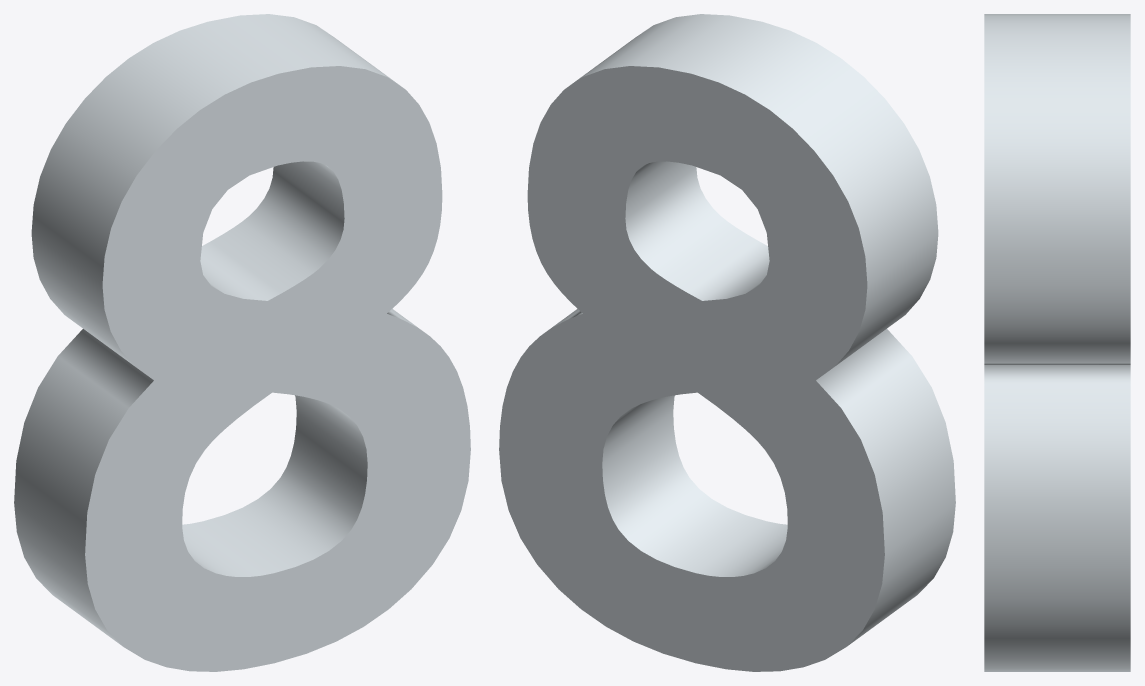
Rendered from NumberEight.fbx.
The picture shows the model from 3 angles, left to right: view 1: azimuth 30°, elevation 25°; view 2: azimuth 150°, elevation 25°; view 3: azimuth 270°, elevation 25°; orthographic projection. The views are drawn at different scales.
Visible parts, largest first — view 1: Text.009; view 2: Text.009; view 3: Text.009.
Boxes of the visible parts, box(x1,y1,x2,y2) form: Text.009: box(14, 14, 470, 671); Text.009: box(499, 14, 955, 671); Text.009: box(984, 14, 1130, 671).
Size of the model in its own units: 37.67 by 54.9 by 12.
